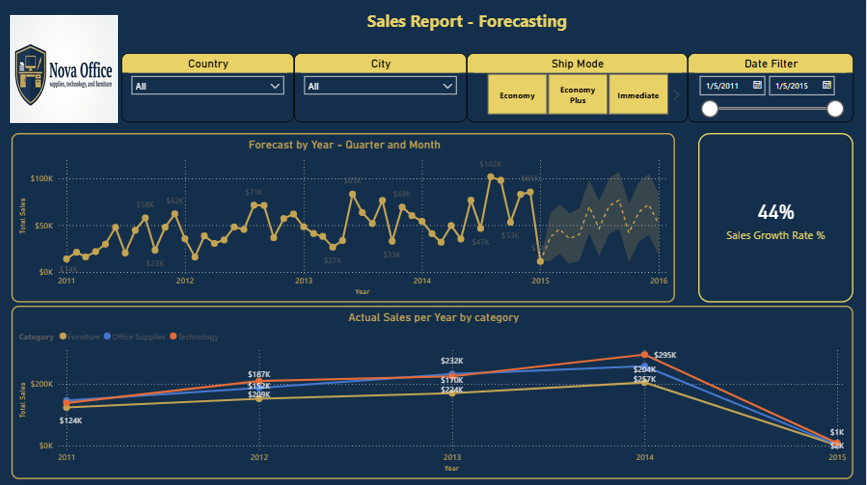

This screenshot's page, from the dashboard's own definition file:
{"tool":"powerbi","page":{"name":"Forecasting","canvas":[1280,720],"ordinal":7},"visuals":[{"type":"slicer","title":"Date Filter ","fields":{"Values":["Dim_Date.Date"]},"box":[1019.1,83.6,243.8,102],"z":0},{"type":"slicer","title":"Ship Mode ","fields":{"Values":["Dim_Ship Mode.Ship Mode"]},"box":[694.5,83.6,324.6,102],"z":1000},{"type":"slicer","title":"City","fields":{"Values":["Dim_City.City"]},"box":[440.8,83.6,253.7,102],"z":2000},{"type":"slicer","title":"Country","fields":{"Values":["Dim_City.City"]},"box":[187.1,83.6,253.7,102],"z":3000},{"type":"textbox","box":[271.6,14.4,845.8,70],"z":4000},{"type":"card","fields":{"Values":["-Measures.Sales Growth Rate %"]},"box":[1034.6,201.3,228.2,249.4],"z":5000},{"type":"lineChart","title":"Forecast by Year - Quarter and Month","fields":{"Y":["-Measures.Total Sales"],"Category":["Dim_Date.Year_Month_Date.Variation.Date Hierarchy.Year","Dim_Date.Year_Month_Date.Variation.Date Hierarchy.Quarter","Dim_Date.Year_Month_Date.Variation.Date Hierarchy.Month","Dim_Date.Year_Month_Date.Variation.Date Hierarchy.Day"]},"box":[25.5,201.3,975.1,249.4],"z":6000},{"type":"lineChart","title":"Actual Sales per Year by category","fields":{"Category":["Dim_Date.Date.Variation.Date Hierarchy.Year","Dim_Date.Date.Variation.Date Hierarchy.Quarter","Dim_Date.Date.Variation.Date Hierarchy.Month","Dim_Date.Date.Variation.Date Hierarchy.Day"],"Y":["-Measures.Total Sales"],"Series":["Dim_Category.Category"]},"box":[25.5,455,1237.3,255.1],"z":7000}]}

Visuals, with their boxes in screenshot pixels (x1, y1, x2, y2), scaled from the page's 1280x720 canvas onto the 867x485 screenshot:
"Date Filter " slicer: 690:56:855:125
"Ship Mode " slicer: 470:56:690:125
"City" slicer: 299:56:470:125
"Country" slicer: 127:56:299:125
textbox: 184:10:757:57
card - -Measures.Sales Growth Rate %: 701:136:855:304
"Forecast by Year - Quarter and Month" lineChart: 17:136:678:304
"Actual Sales per Year by category" lineChart: 17:306:855:478
